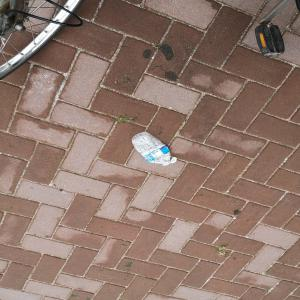Plastic-bottle: (129, 127, 183, 171)
